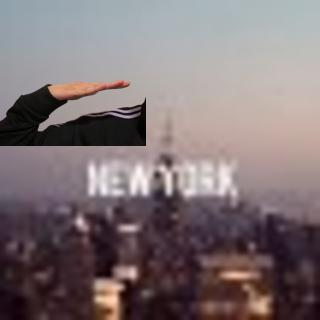Wait: (45, 74, 134, 105)
